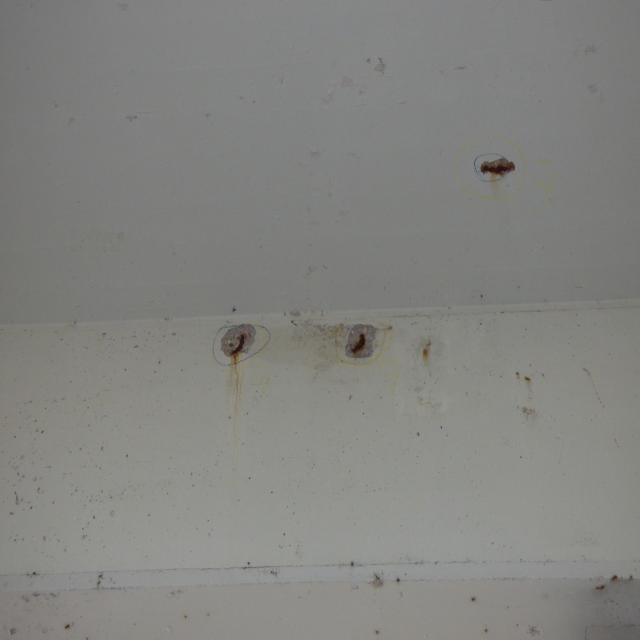corrosion: (467, 141, 527, 202), (228, 332, 248, 446), (347, 332, 370, 358), (420, 340, 436, 366)
